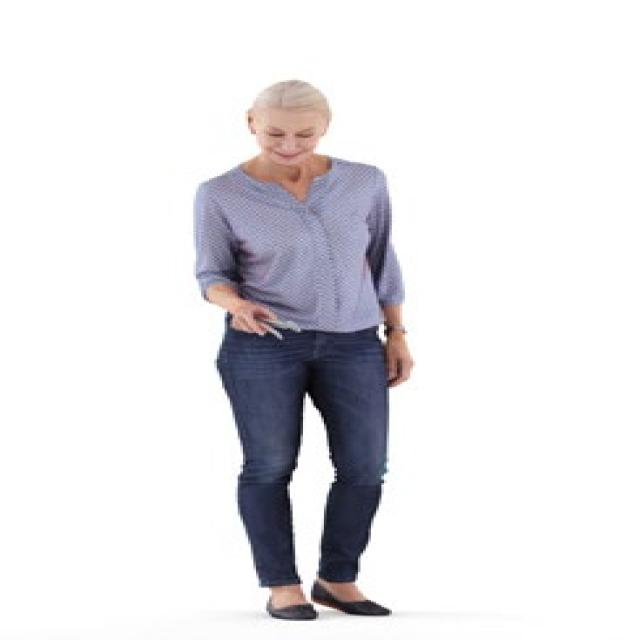standing: (189, 79, 427, 626)
